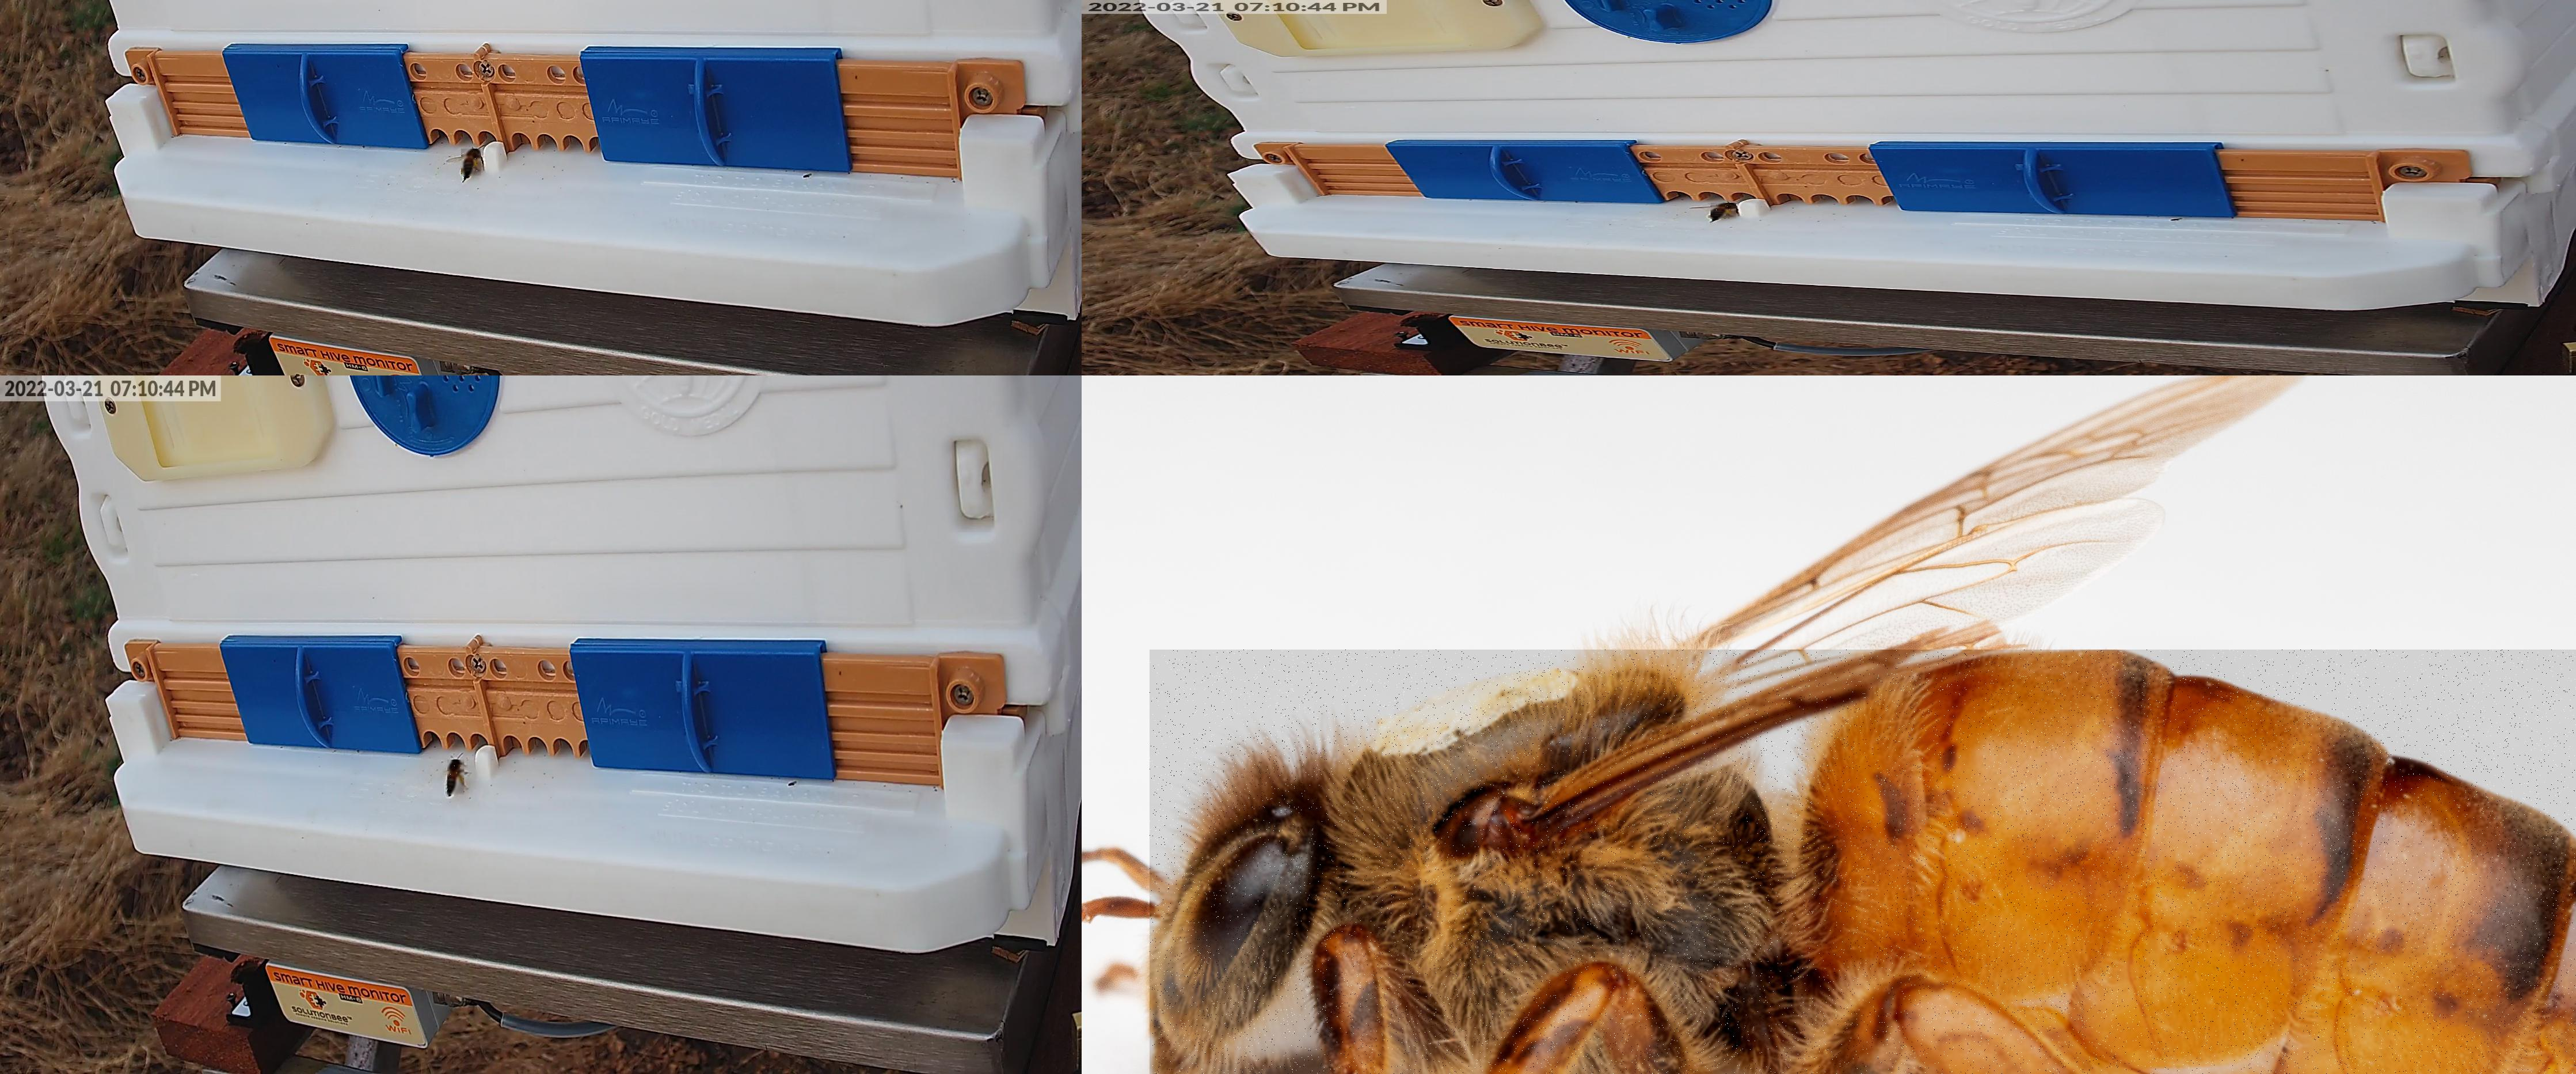pollenbee: (447, 760, 465, 796), (461, 149, 482, 178), (1711, 203, 1737, 220)
queen: (1150, 650, 2575, 1073)
